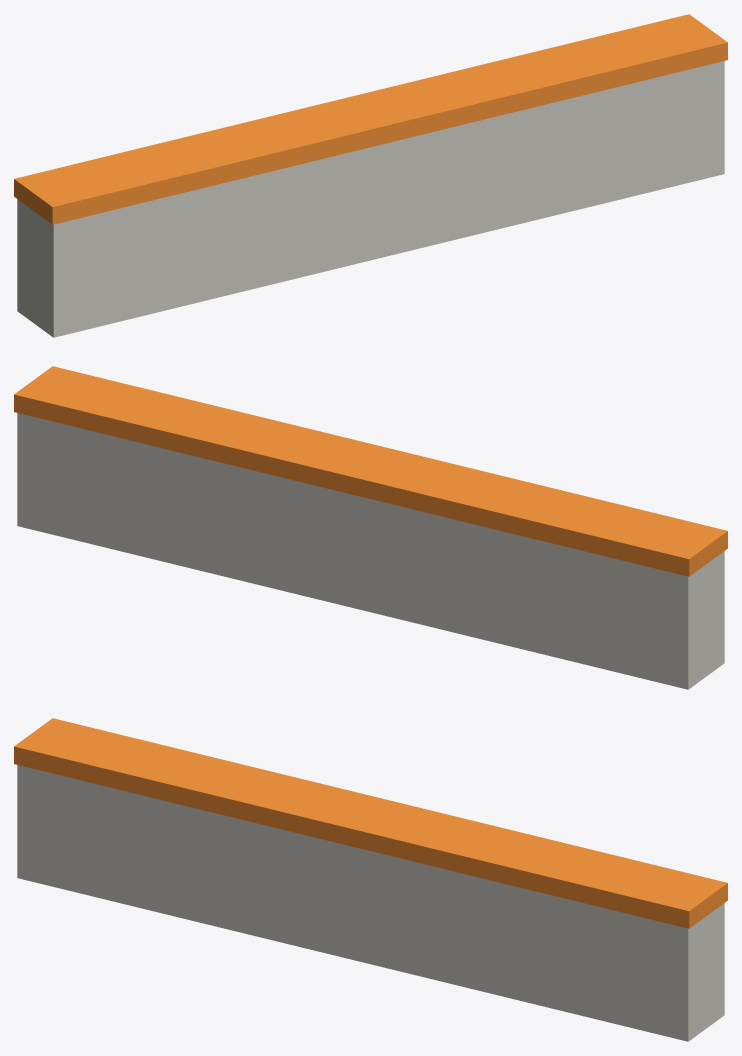
The model's file is stock-car-oval-speedway-infield-inner-wall-1551c9f7__16927.glb.
The picture shows the model from 3 angles, top to bottom: view 1: azimuth 30°, elevation 25°; view 2: azimuth 150°, elevation 25°; view 3: azimuth 330°, elevation 25°; orthographic projection.
Visible parts, largest first — view 1: infield-inner-wall; view 2: infield-inner-wall; view 3: infield-inner-wall.
Part boxes in pixels (x1=…): infield-inner-wall: x1=14, y1=14, x2=727, y2=337; infield-inner-wall: x1=14, y1=366, x2=727, y2=689; infield-inner-wall: x1=14, y1=718, x2=727, y2=1041.
Size of the model in its own units: 3.22 by 0.6013 by 0.32.
